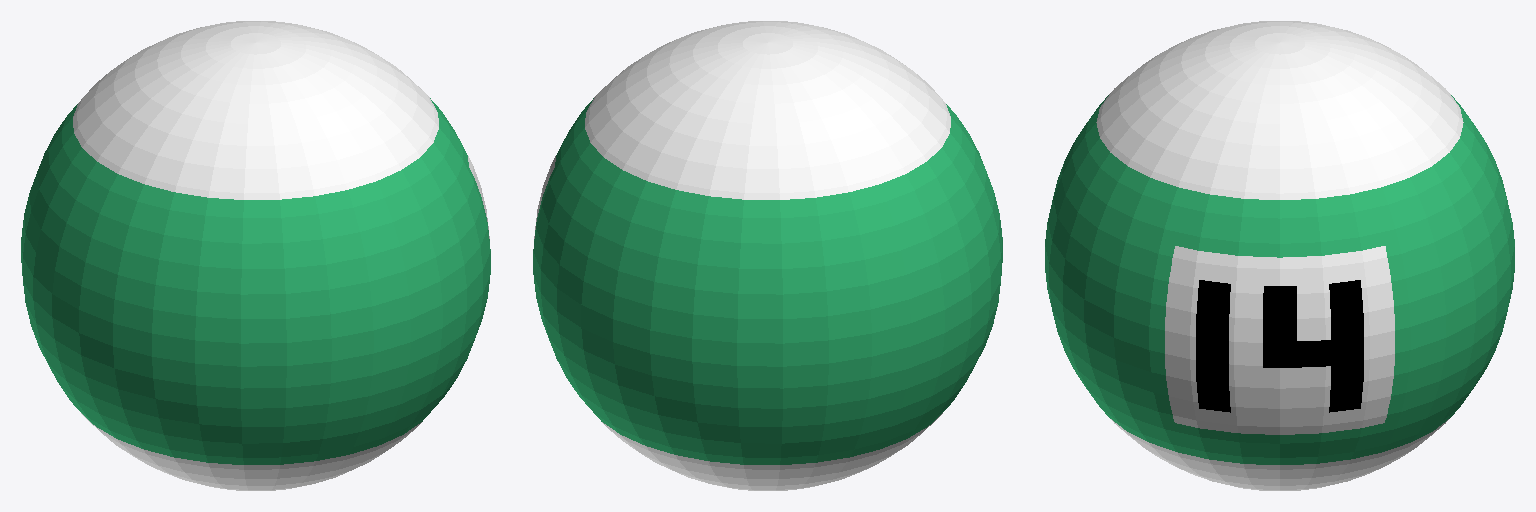
The picture shows the model from 3 angles: view 1: azimuth 30°, elevation 25°; view 2: azimuth 150°, elevation 25°; view 3: azimuth 270°, elevation 25°; orthographic projection.
Parts seen in each view (by area): view 1: Sphere_Sphere.001; view 2: Sphere_Sphere.001; view 3: Sphere_Sphere.001.
Part boxes in pixels (x1,y1,x2,y2): Sphere_Sphere.001: (21,21,490,490); Sphere_Sphere.001: (533,21,1002,490); Sphere_Sphere.001: (1045,21,1514,490).
Bounding box in the file's own units: 2 × 2 × 2.
1 materials, 1 textured.